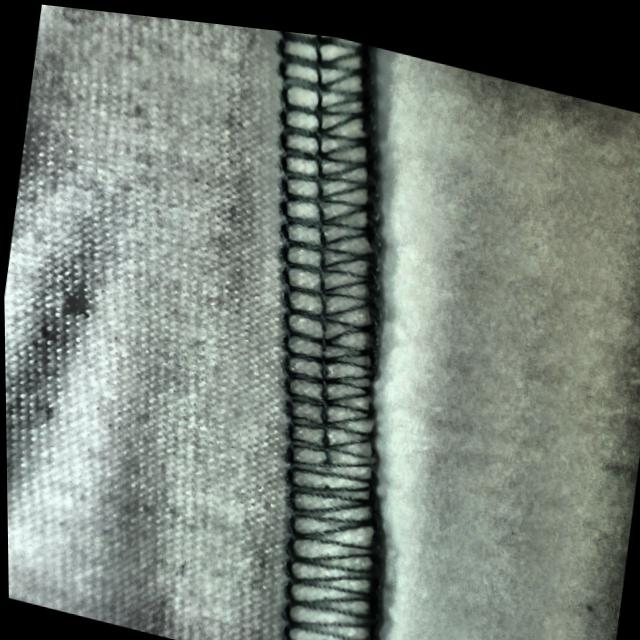Stitch: (228, 256, 425, 640)
